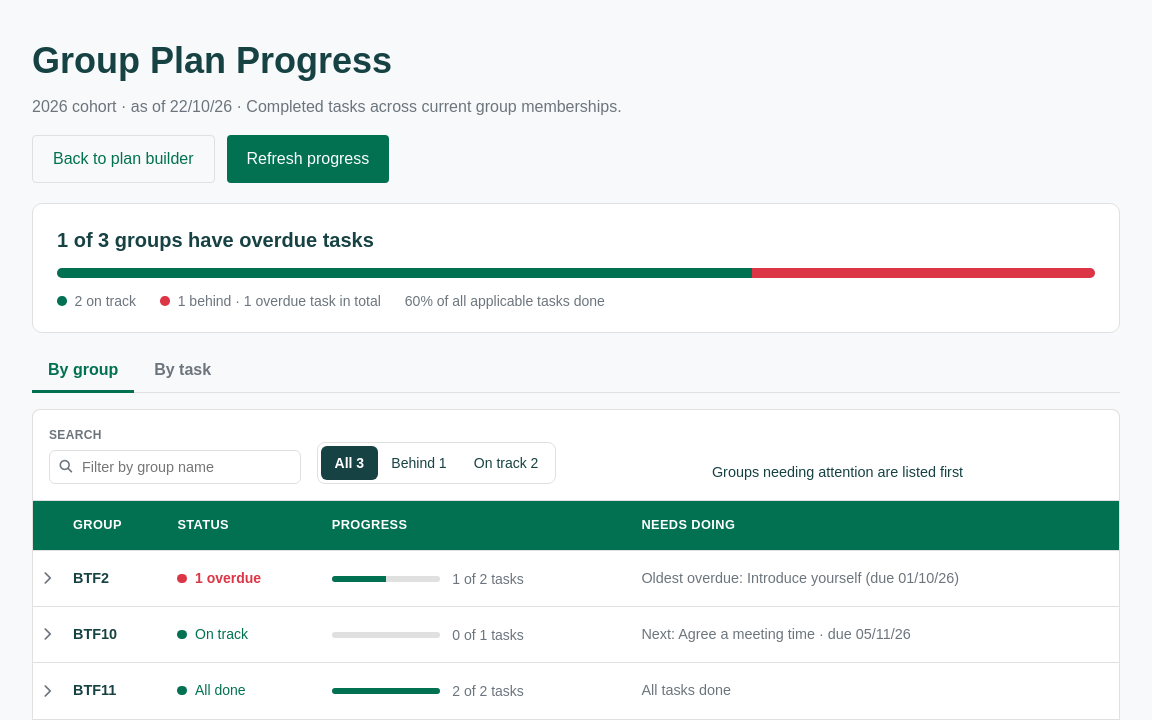
Scenario: admin plan progress › refreshes counts and removes cached data if access is subsequently denied
The image size is (1152, 720).
Click the button "Refresh progress". click: click(308, 159)
box: x1=226 y1=135 x2=389 y2=183
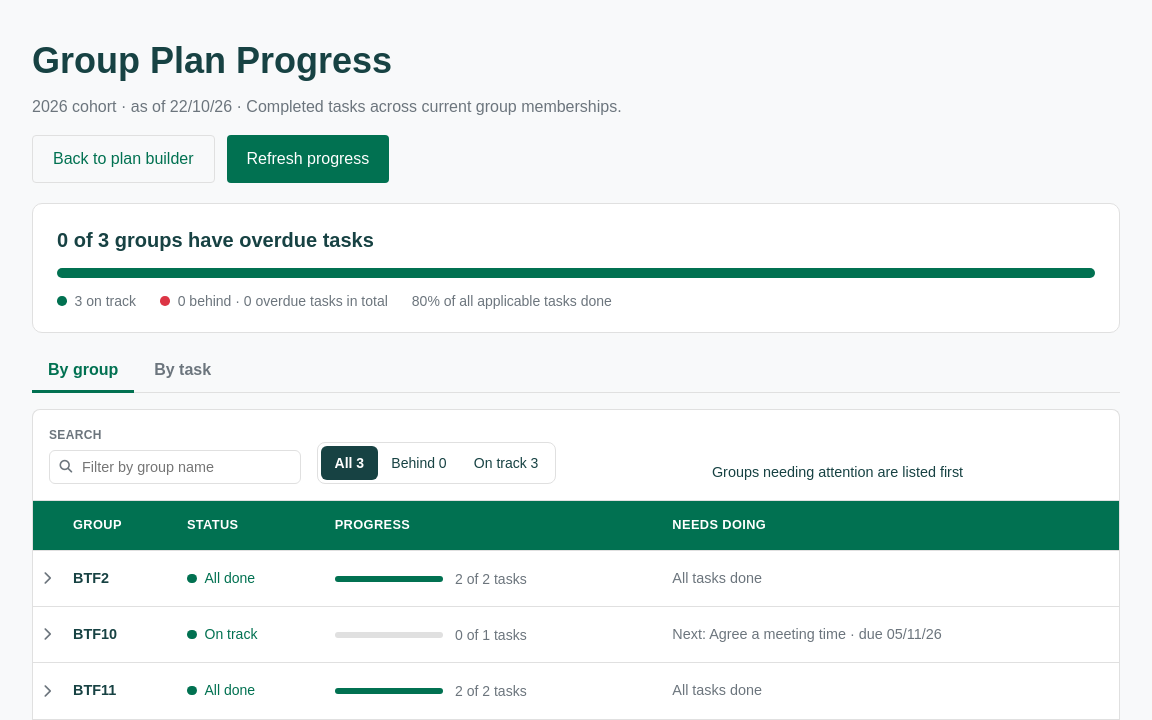
Expected: the element named "Cohort health" shows "0 of 3 groups have overdue tasks", x1=57 y1=229 x2=374 y2=251
Click the button "Refresh progress". click: click(308, 159)
box: x1=226 y1=135 x2=389 y2=183
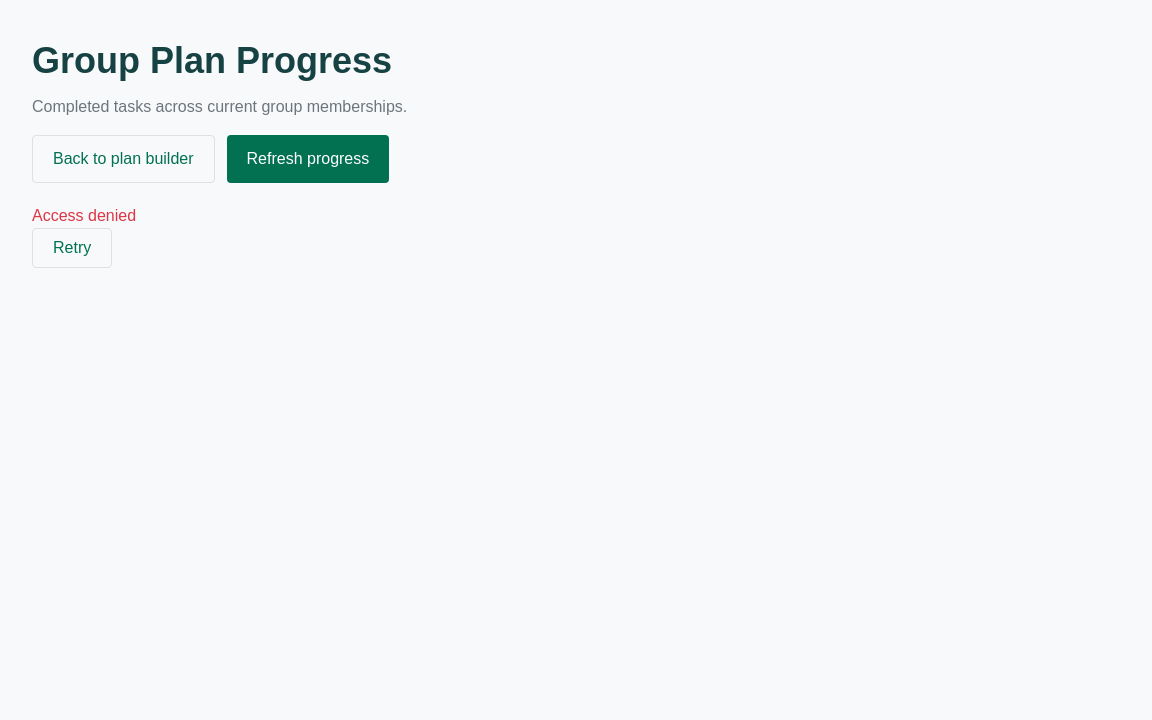
Expected: the message "Access denied Retry" is shown, x1=32 y1=207 x2=136 y2=268
